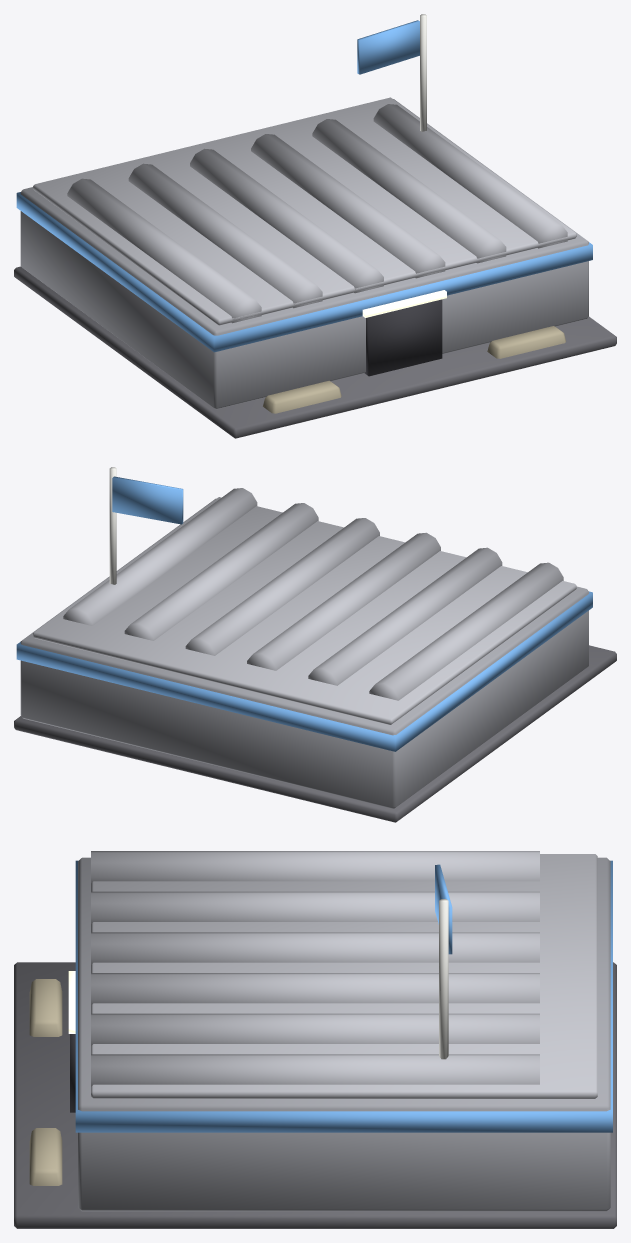
The model's file is barracks.glb.
3 renders of one model, top to bottom at view 1: azimuth 30°, elevation 25°; view 2: azimuth 150°, elevation 25°; view 3: azimuth 270°, elevation 25°, orthographic. The views are drawn at different scales.
Parts seen in each view (by area): view 1: body; view 2: body; view 3: body.
Boxes of the visible parts, left/top/right/bottom form: body: left=14, top=14, right=616, bottom=438; body: left=14, top=467, right=616, bottom=822; body: left=14, top=851, right=616, bottom=1228.
Bounding box in the file's own units: 1.88 × 1.05 × 1.88.
